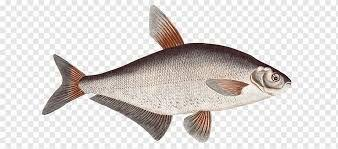Bangus: (45, 3, 292, 143)
